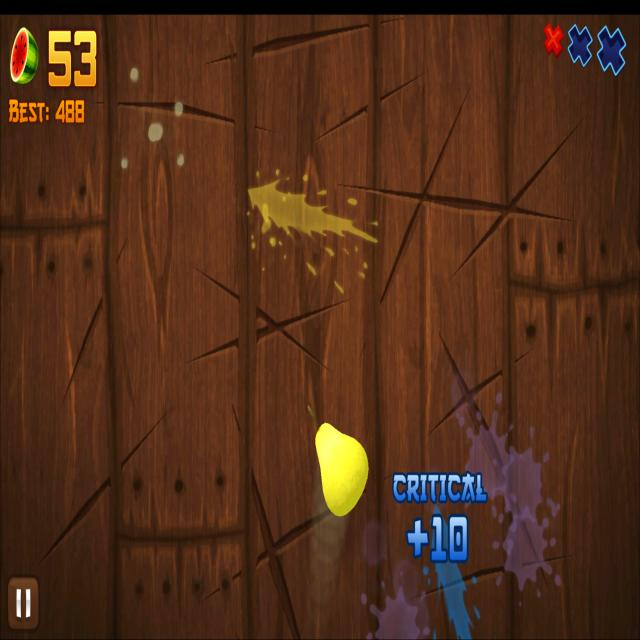fruit: (314, 422, 370, 517)
